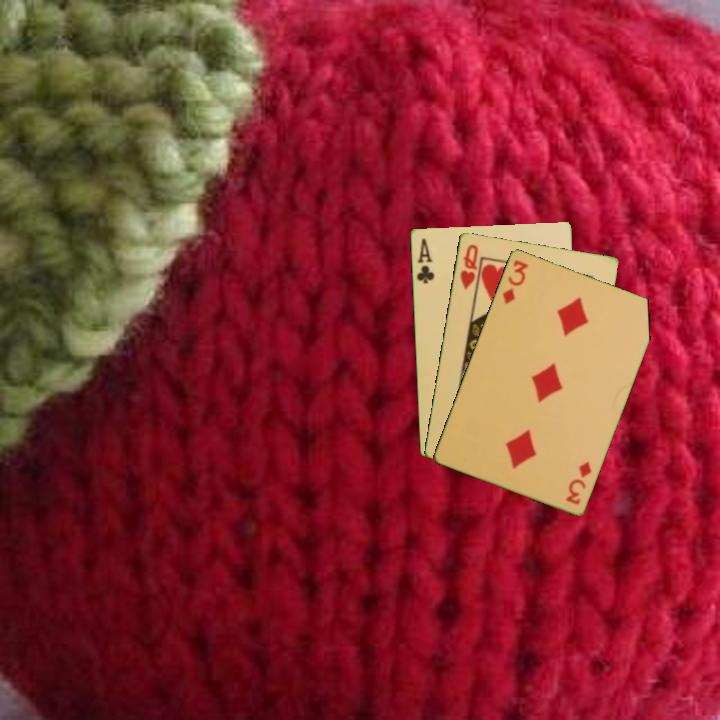3d: (499, 256, 531, 307), (562, 457, 594, 508)
Ac: (413, 235, 436, 286)
Qh: (456, 240, 481, 292)
